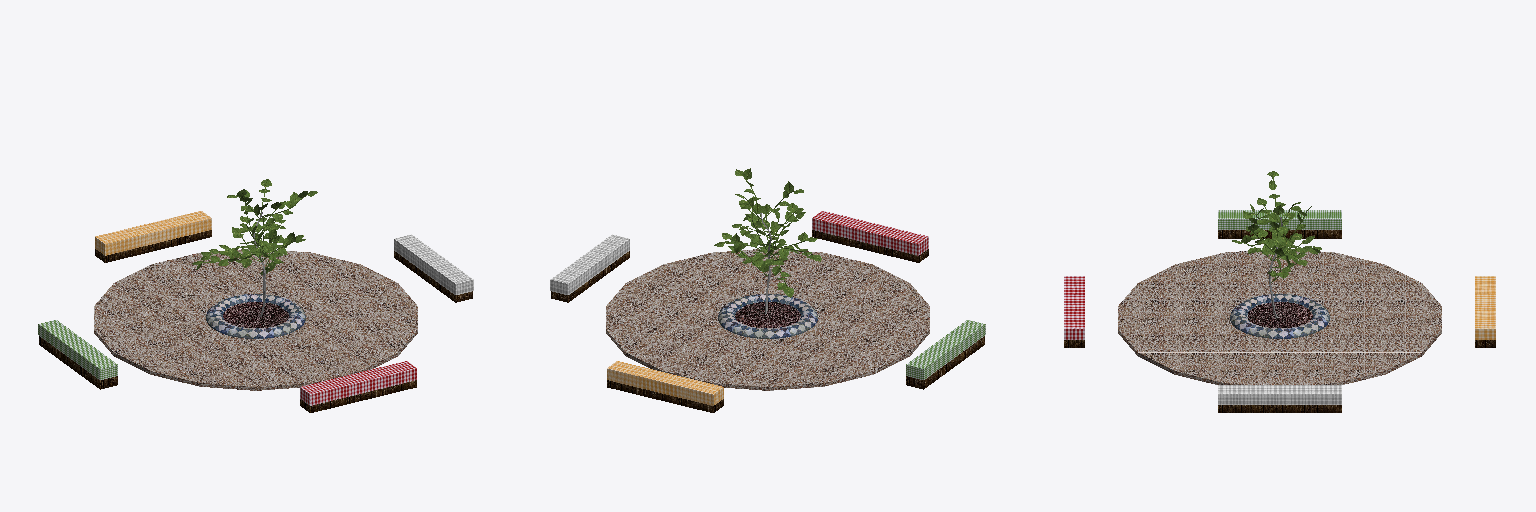
3 views of the same model, side by side, from view 1: azimuth 30°, elevation 25°; view 2: azimuth 150°, elevation 25°; view 3: azimuth 270°, elevation 25° (orthographic).
Visible parts, largest first — view 1: road, leaf, cloth_north, cloth_south, guard_bar, cloth_east, cloth_west, center, display_south, display_north, display_west, display_east; view 2: road, leaf, cloth_south, cloth_north, guard_bar, cloth_east, cloth_west, center, display_north, display_south, display_west, display_east; view 3: road, leaf, cloth_east, guard_bar, cloth_west, cloth_north, cloth_south, center, display_east, display_west.
Boxes of the visible parts, x1,y1,x2,y2 form: road: [94, 249, 417, 390]; leaf: [192, 179, 317, 274]; cloth_north: [95, 211, 211, 255]; cloth_south: [300, 361, 416, 405]; guard_bar: [206, 294, 305, 338]; cloth_east: [394, 234, 473, 294]; cloth_west: [38, 320, 117, 379]; center: [223, 302, 288, 327]; display_south: [300, 380, 416, 412]; display_north: [95, 230, 211, 262]; display_west: [39, 336, 117, 389]; display_east: [394, 251, 472, 302]; road: [606, 249, 929, 390]; leaf: [714, 168, 821, 297]; cloth_south: [812, 211, 928, 255]; cloth_north: [607, 361, 723, 405]; guard_bar: [718, 294, 817, 338]; cloth_east: [550, 234, 629, 294]; cloth_west: [906, 320, 985, 379]; center: [735, 302, 800, 327]; display_north: [607, 380, 723, 412]; display_south: [812, 230, 928, 262]; display_west: [906, 336, 984, 389]; display_east: [551, 251, 629, 302]; road: [1118, 251, 1441, 384]; leaf: [1232, 171, 1321, 282]; cloth_east: [1218, 385, 1341, 404]; guard_bar: [1230, 294, 1329, 338]; cloth_west: [1218, 210, 1341, 229]; cloth_north: [1475, 276, 1495, 339]; cloth_south: [1064, 276, 1084, 339]; center: [1248, 302, 1312, 327]; display_east: [1218, 405, 1341, 412]; display_west: [1218, 230, 1341, 238].
Size of the model in its own units: 10.51 by 4.03 by 10.51.
10 materials, 9 textured.